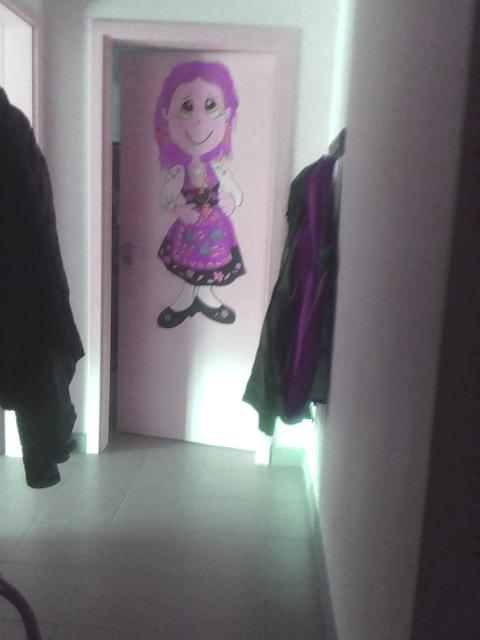closed_door: (93, 14, 301, 463)
